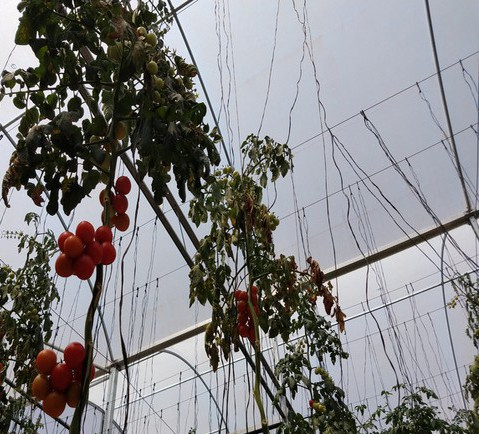dry leaves: (273, 242, 365, 333)
green tomato bunch: (129, 26, 165, 107), (88, 121, 127, 182), (308, 396, 331, 429)
red tomato bunch: (29, 340, 94, 416), (55, 219, 117, 281), (99, 177, 129, 231), (233, 287, 262, 341)
